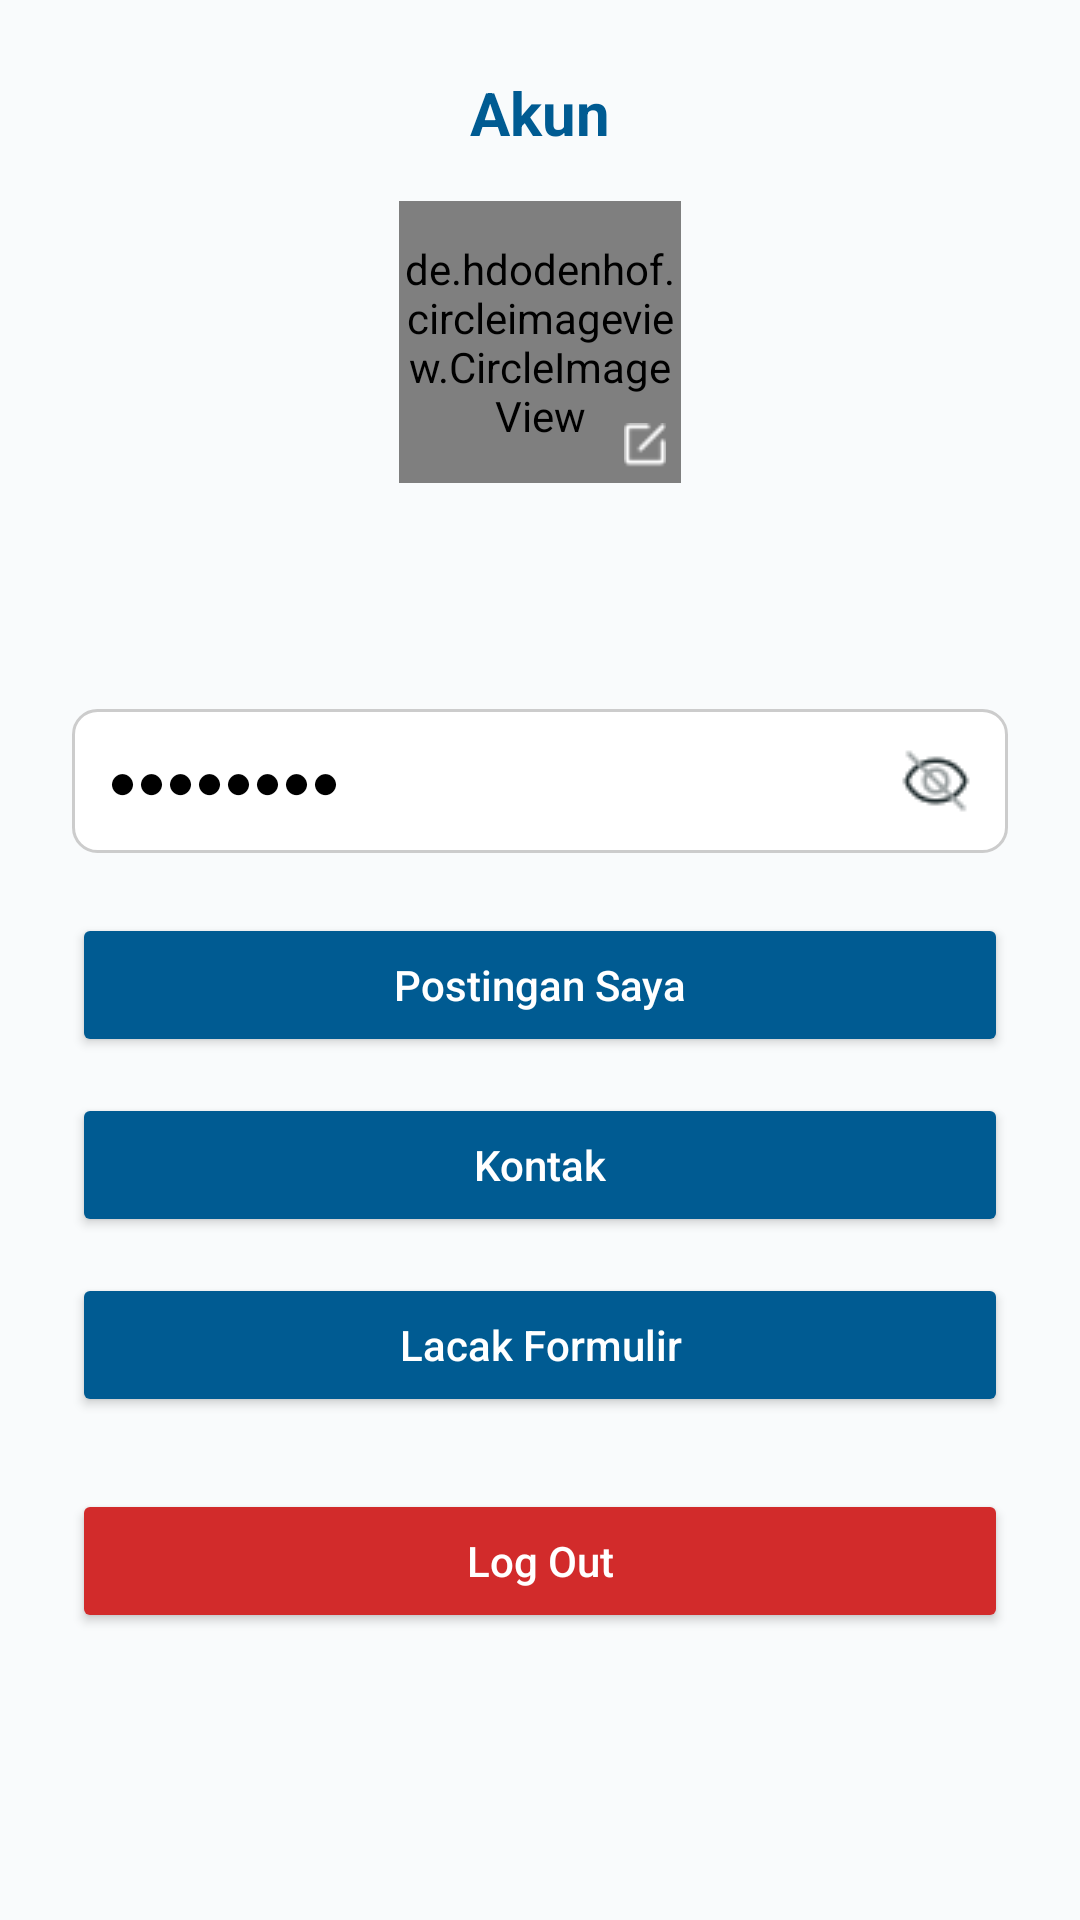

Named icons in this screenshot (1080x1920) and their bounding boxes, (x1, y1, x2, y2):
edit: (624, 423, 666, 466)
eye: (902, 751, 970, 811)
